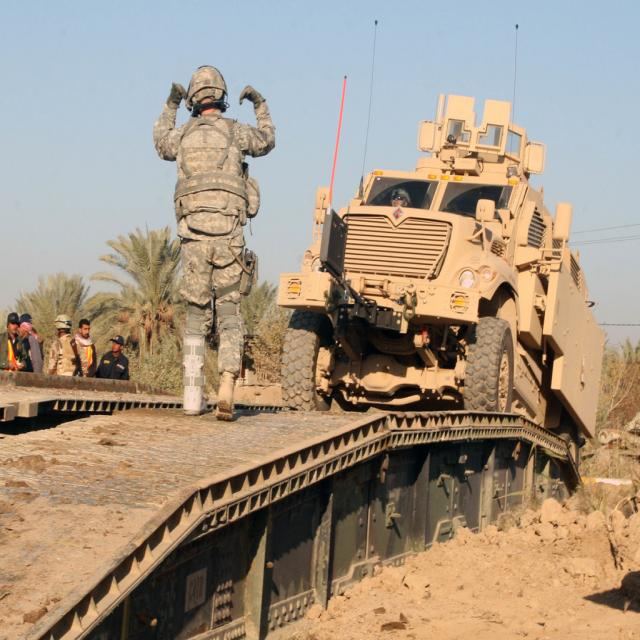tank: (274, 21, 606, 467)
